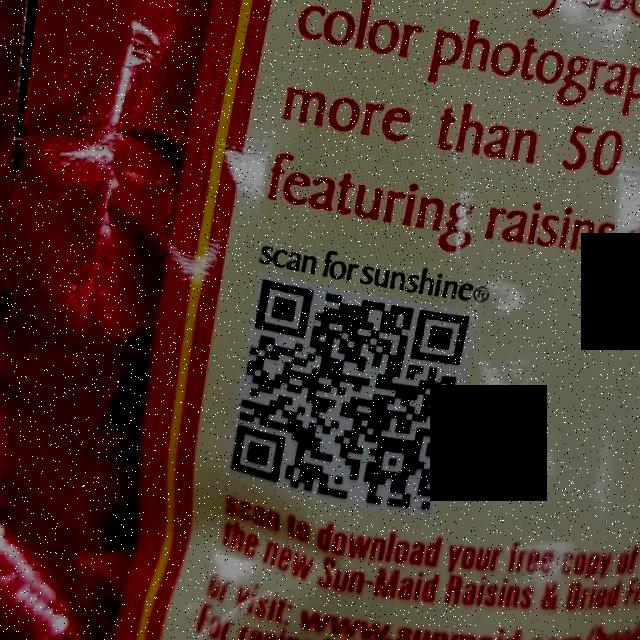QR_CODE: (220, 260, 475, 526)
